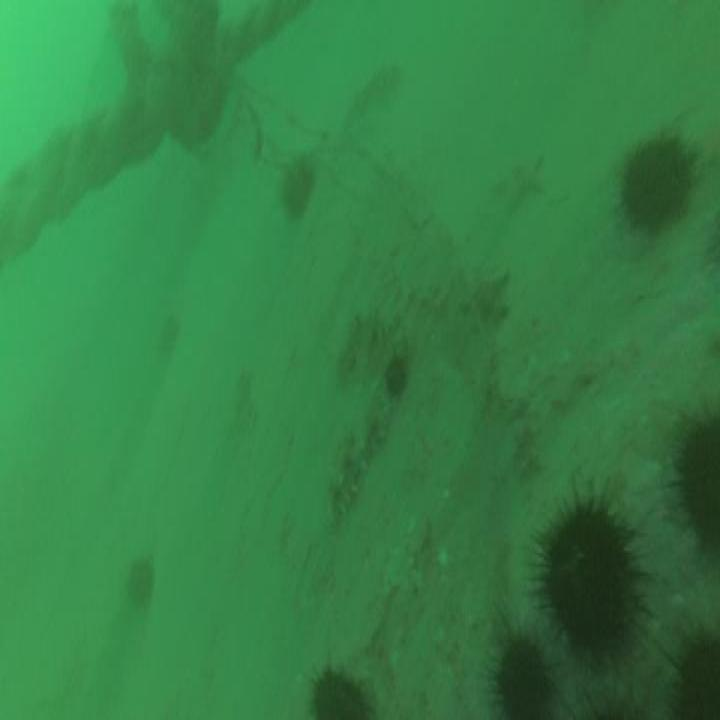echinus: (520, 478, 654, 683), (652, 393, 720, 576), (611, 119, 700, 240), (480, 610, 569, 720), (646, 601, 720, 720), (302, 649, 381, 720), (125, 549, 154, 617)
holothurian: (327, 349, 392, 534)
starfish: (496, 144, 546, 217)
